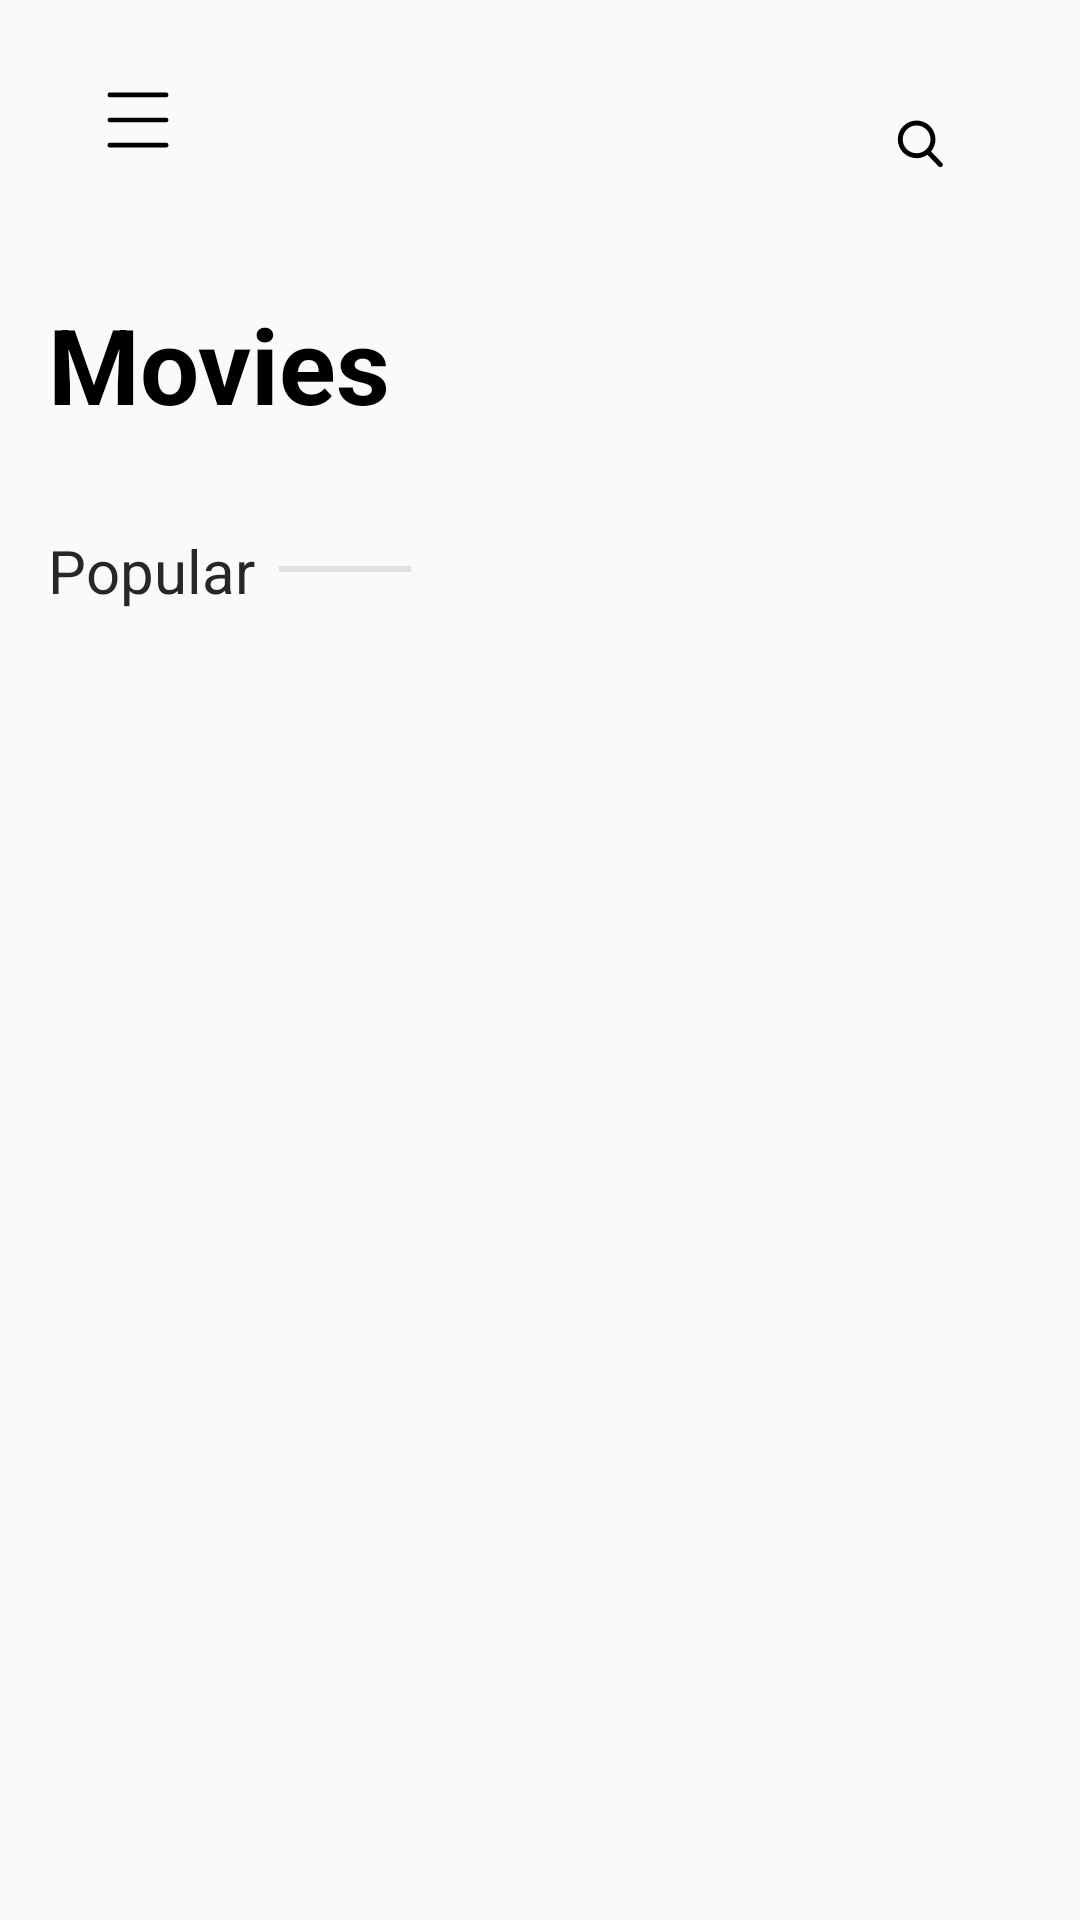

Icon click points for this 1080w x 1920h phone screenshot, format (x,y):
bar: (138,120)
search: (920,143)
